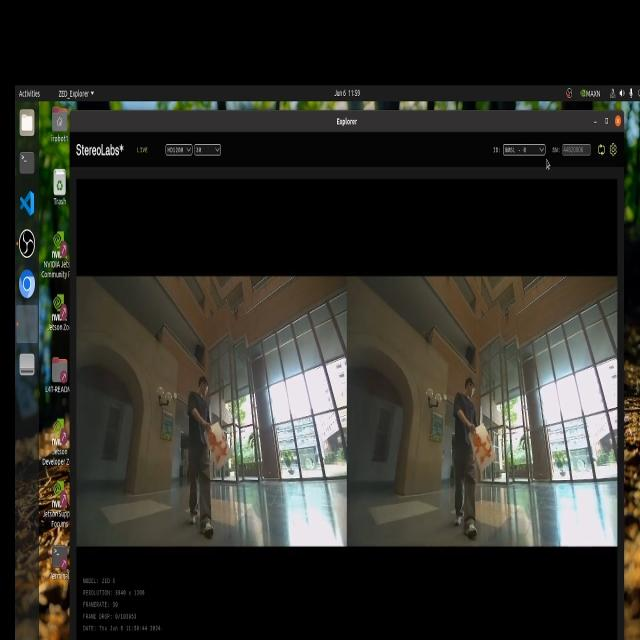red: (472, 429, 497, 463), (210, 430, 232, 468)
